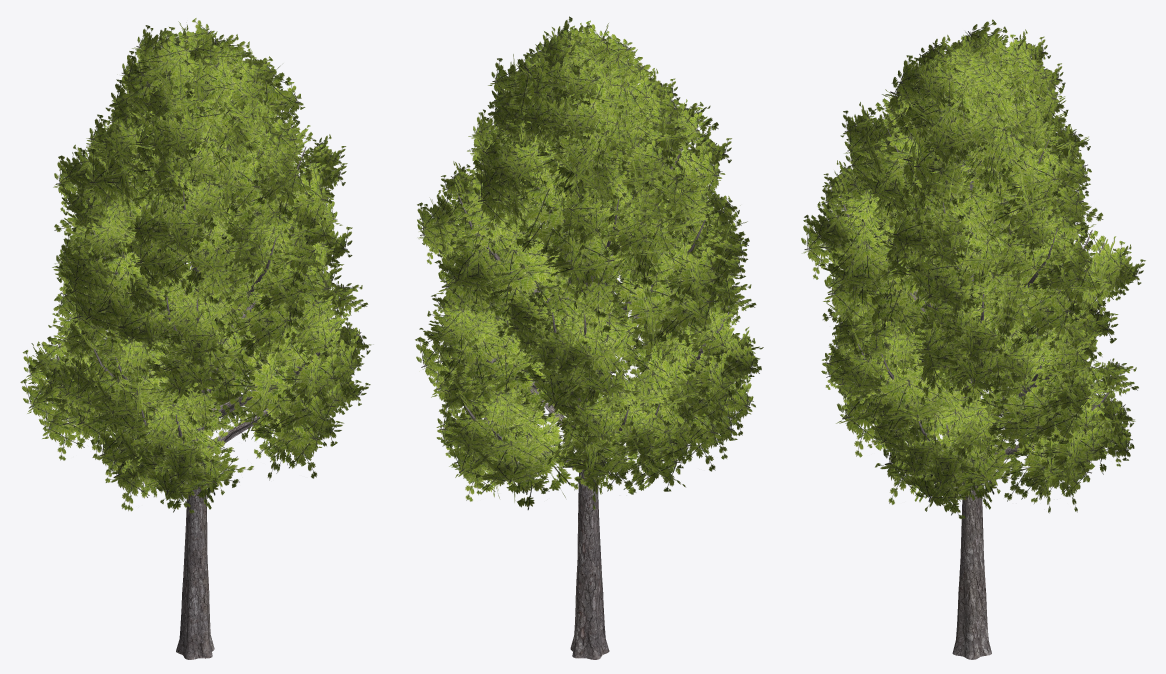
The model's file is tree-transformed.glb.
The picture shows the model from 3 angles, left to right: view 1: azimuth 30°, elevation 25°; view 2: azimuth 150°, elevation 25°; view 3: azimuth 270°, elevation 25°; orthographic projection.
Visible parts, largest first — view 1: leaves, trunk; view 2: leaves, trunk; view 3: leaves, trunk.
Boxes of the visible parts, x1,y1,x2,y2 form: leaves: (20,18,373,514); trunk: (56,70,341,659); leaves: (415,16,763,510); trunk: (458,71,729,659); leaves: (801,19,1145,519); trunk: (840,71,1108,659).
Bounding box in the file's own units: 4.59 × 8.62 × 4.44.
Materials: 2 (2 with a texture image).
